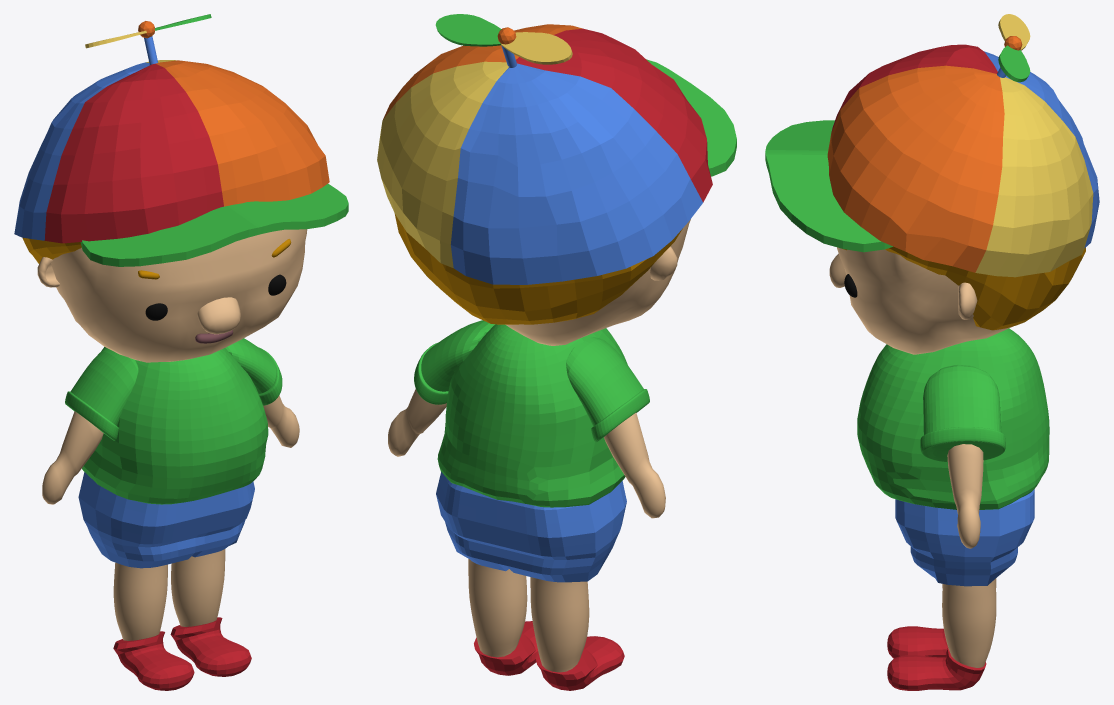
Rendered from lejoufflu.fbx.
The picture shows the model from 3 angles, left to right: view 1: azimuth 30°, elevation 25°; view 2: azimuth 150°, elevation 25°; view 3: azimuth 270°, elevation 25°; orthographic projection. The views are drawn at different scales.
Parts seen in each view (by area): view 1: Sphere.002, sleeves.001, head, jumper, Cylinder, Vert, Vert.002, Vert.001, Vert.005, arms.001, nose, arms.002 (+1 smaller); view 2: Sphere.002, sleeves.001, jumper, Sphere, Vert, Vert.002, head, arms.001, Cylinder, Vert.001, arms.002, Cylinder.003 (+3 smaller); view 3: Sphere.002, sleeves.001, head, jumper, Cylinder, Sphere, Vert.002, Vert.005, arms.002, Vert.001, Cylinder.003, Cylinder.002 (+1 smaller).
Part boxes in pixels (bbox=[...]): Sphere.002: bbox=[14, 60, 329, 243]; sleeves.001: bbox=[65, 338, 282, 504]; head: bbox=[51, 229, 307, 362]; jumper: bbox=[78, 472, 254, 568]; Cylinder: bbox=[80, 183, 348, 266]; Vert: bbox=[113, 562, 167, 640]; Vert.002: bbox=[171, 549, 225, 626]; Vert.001: bbox=[113, 631, 194, 690]; Vert.005: bbox=[170, 617, 251, 676]; arms.001: bbox=[42, 411, 103, 504]; nose: bbox=[197, 297, 240, 334]; arms.002: bbox=[263, 395, 299, 447]; Sphere.002: bbox=[377, 24, 712, 284]; sleeves.001: bbox=[414, 320, 649, 507]; jumper: bbox=[436, 472, 626, 582]; Sphere: bbox=[394, 213, 682, 324]; Vert: bbox=[530, 577, 589, 672]; Vert.002: bbox=[468, 559, 527, 657]; head: bbox=[505, 219, 690, 345]; arms.001: bbox=[604, 412, 665, 518]; Cylinder: bbox=[646, 59, 736, 176]; Vert.001: bbox=[536, 636, 624, 690]; arms.002: bbox=[388, 389, 446, 456]; Cylinder.003: bbox=[435, 14, 501, 46]; Sphere.002: bbox=[827, 44, 1099, 277]; sleeves.001: bbox=[857, 328, 1049, 509]; head: bbox=[837, 247, 1012, 354]; jumper: bbox=[895, 489, 1034, 586]; Cylinder: bbox=[765, 120, 892, 252]; Sphere: bbox=[885, 246, 1085, 330]; Vert.002: bbox=[942, 578, 996, 667]; Vert.005: bbox=[887, 647, 986, 690]; arms.002: bbox=[947, 444, 983, 548]; Vert.001: bbox=[887, 626, 947, 658]; Cylinder.003: bbox=[998, 45, 1030, 82]; Cylinder.002: bbox=[998, 14, 1030, 50].
Size of the model in its own units: 214 by 461 by 219.
